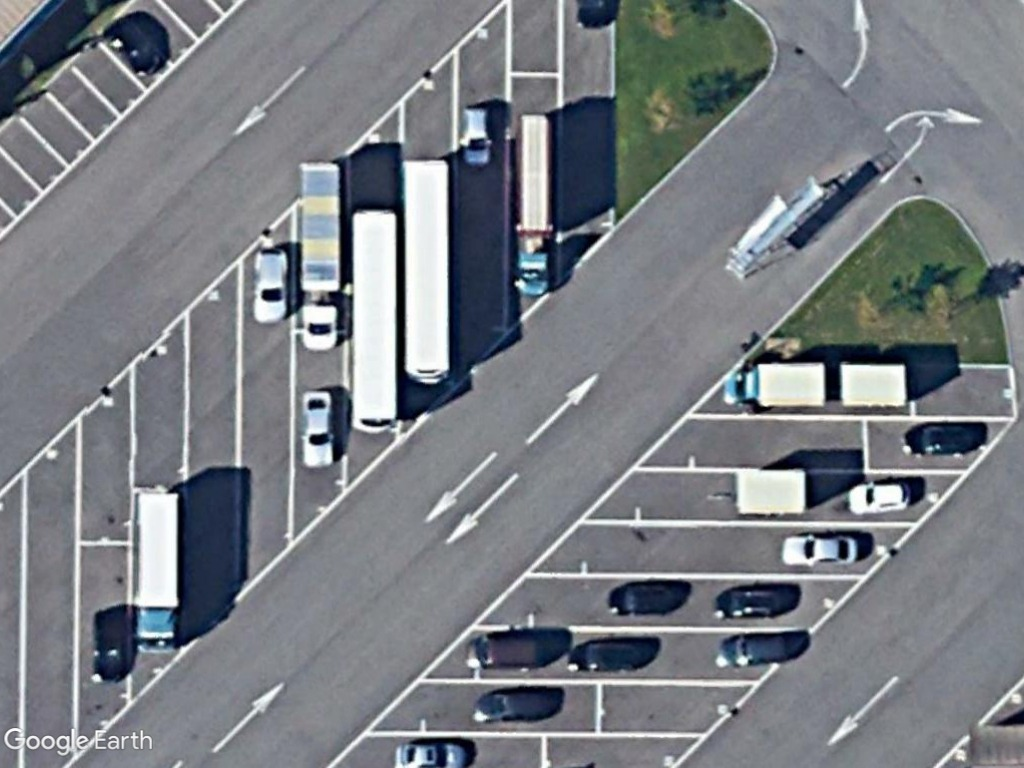car: (248, 246, 292, 329), (297, 384, 338, 472), (777, 532, 861, 568), (842, 475, 913, 516)
longvehicle: (396, 152, 453, 391), (348, 204, 401, 438)
truck: (126, 485, 184, 659), (720, 358, 830, 415)
